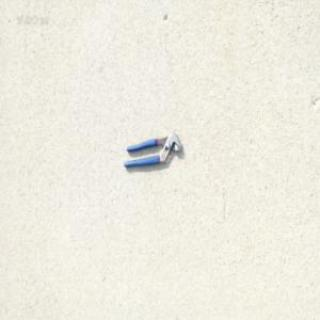Pliertrack_idkeyframe: (120, 130, 180, 168)
